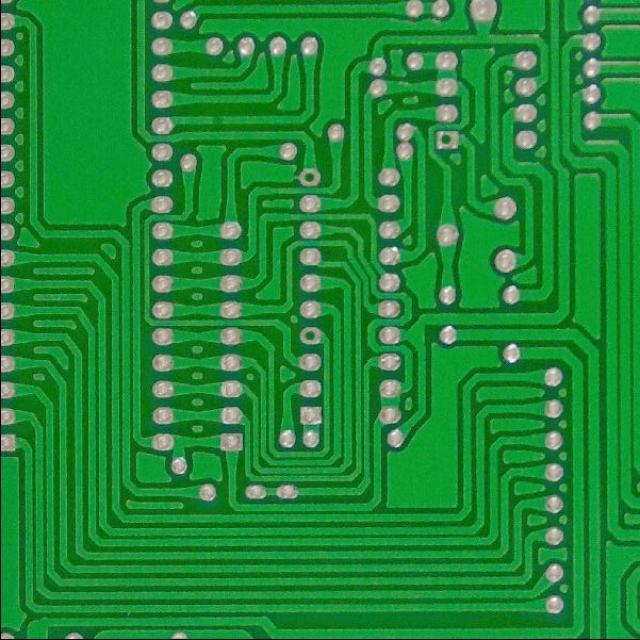missing_hole: (295, 164, 323, 193), (431, 126, 460, 154), (298, 325, 323, 349)
